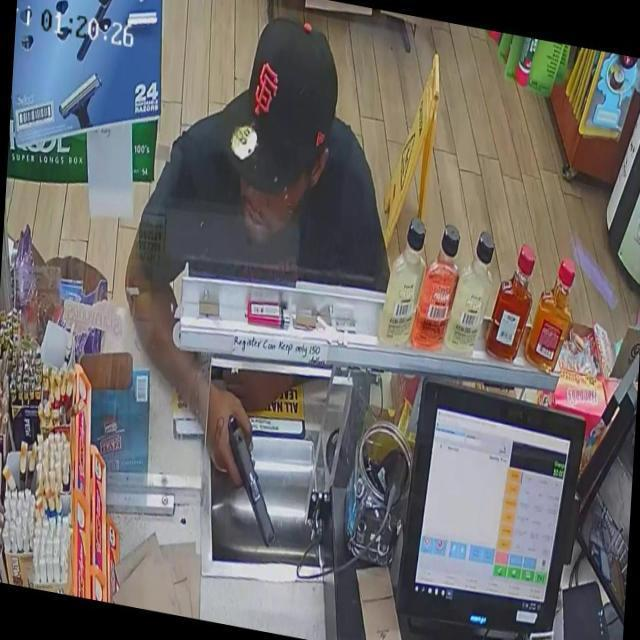pistol: (228, 416, 282, 552)
